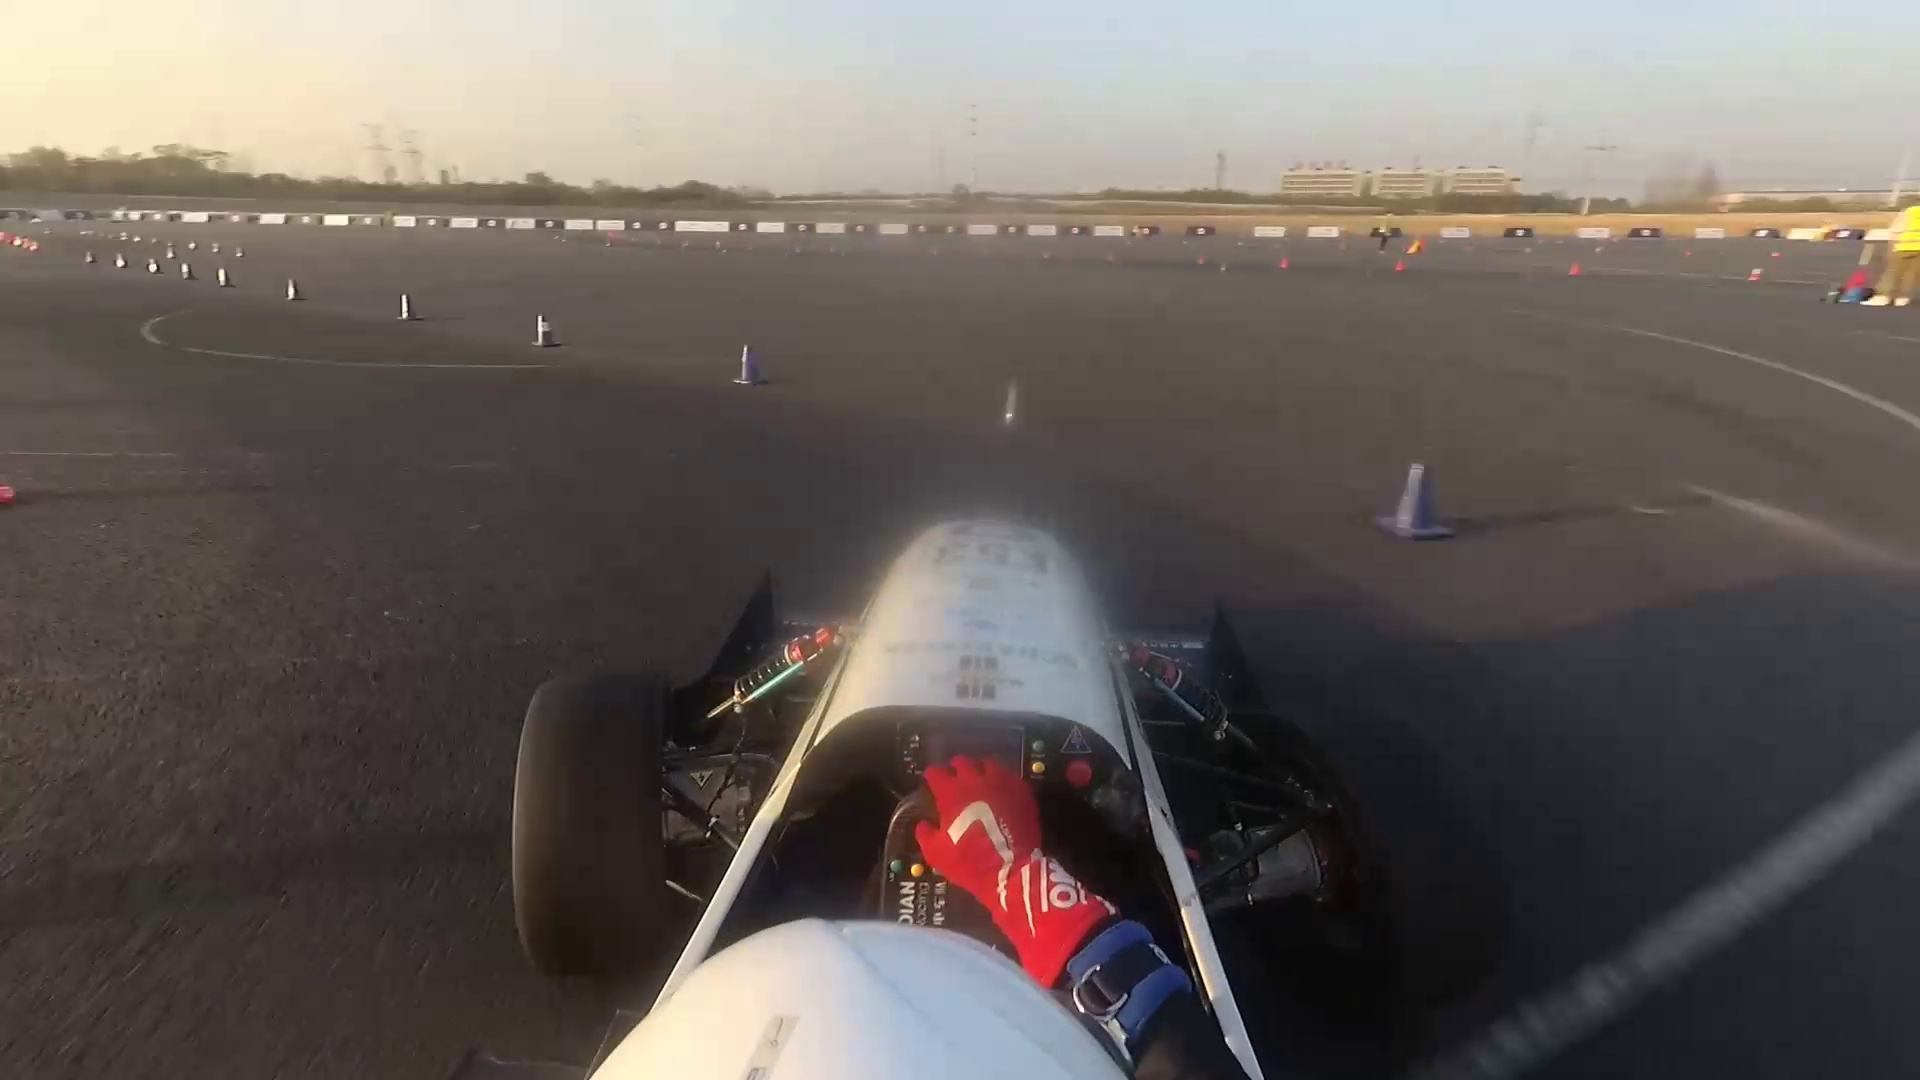blue_cone: (1375, 467, 1451, 545), (992, 382, 1029, 433), (733, 348, 762, 386), (529, 313, 554, 345), (401, 291, 417, 320), (284, 277, 301, 302), (112, 251, 131, 270), (164, 239, 179, 261), (148, 255, 160, 278), (207, 243, 223, 260), (179, 261, 193, 281), (219, 266, 229, 290), (83, 249, 98, 266), (233, 245, 247, 262), (185, 240, 198, 255)
red_cone: (29, 239, 41, 255), (5, 233, 15, 251), (15, 233, 22, 252)
